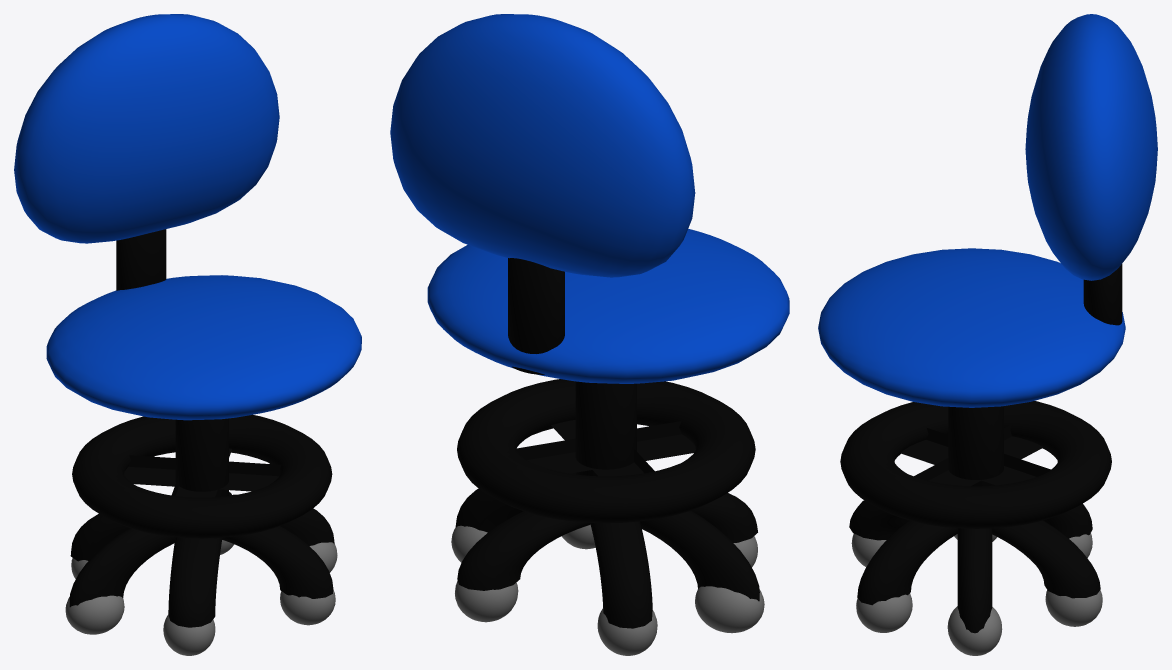
The model's file is chair.fbx.
3 renders of one model, left to right at view 1: azimuth 30°, elevation 25°; view 2: azimuth 150°, elevation 25°; view 3: azimuth 270°, elevation 25°, orthographic. The views are drawn at different scales.
Parts seen in each view (by area): view 1: stool, seat, leg_reat, chair_leg, rod, goro; view 2: stool, seat, leg_reat, chair_leg, rod, goro; view 3: seat, stool, leg_reat, chair_leg, rod, goro.
Boxes of the visible parts, x1,y1,x2,y2 form: stool: (14, 14, 279, 243); seat: (46, 275, 361, 420); leg_reat: (72, 414, 332, 538); chair_leg: (69, 492, 334, 627); rod: (116, 229, 228, 497); goro: (65, 540, 337, 655); stool: (390, 14, 695, 277); seat: (427, 229, 789, 383); leg_reat: (457, 379, 755, 523); chair_leg: (455, 472, 759, 628); rod: (508, 258, 636, 476); goro: (451, 524, 764, 655); seat: (818, 248, 1125, 407); stool: (1025, 14, 1157, 280); leg_reat: (840, 401, 1111, 528); chair_leg: (849, 500, 1100, 633); rod: (948, 264, 1122, 486); goro: (851, 533, 1102, 655).
Size of the model in its own units: 1211 by 2252 by 1218.
